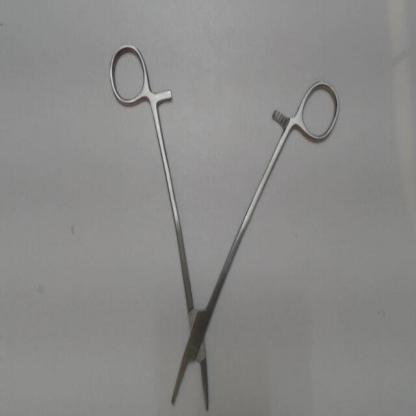8 Mayo Needle Holder: (97, 37, 351, 415)
